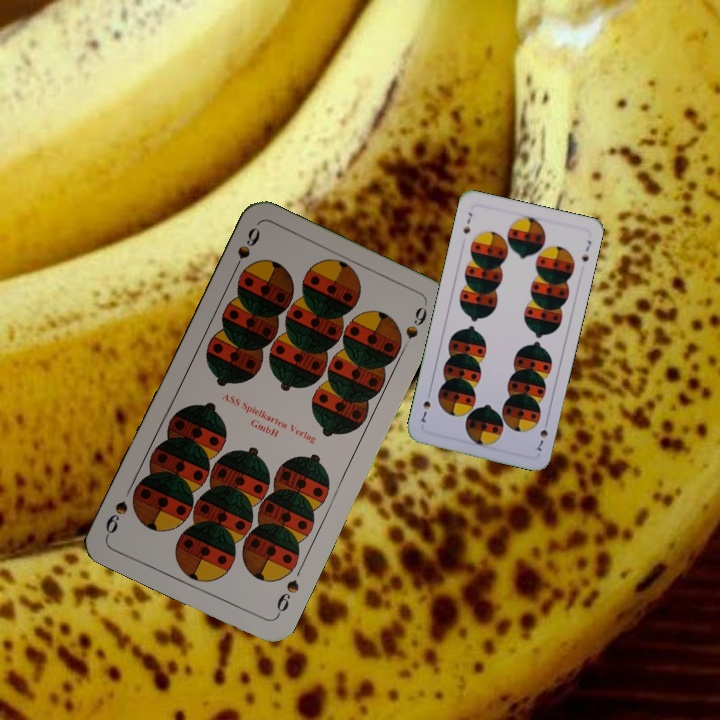S7: (531, 416, 551, 454), (459, 208, 475, 236)
S9: (228, 223, 263, 278), (272, 575, 302, 620)
